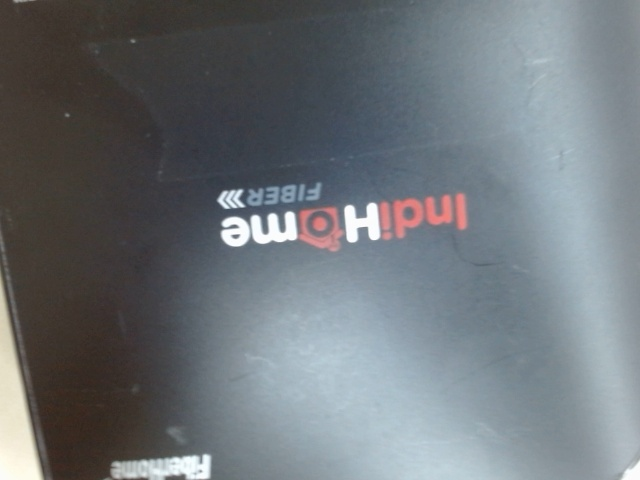AF_IndiHome: (197, 170, 478, 256)
